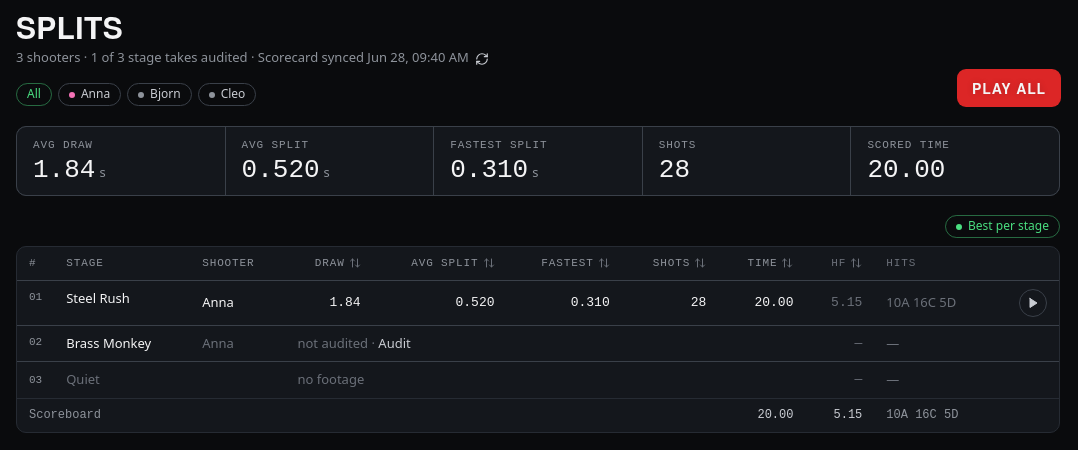
it: Splits - owner surface › multi-shooter: chips filter the table to one shooter
expect the element named "Filter by shooter" is shown: met, box [16,80,256,106]
expect the text "1 of 3 stage takes audited" is shown: met, box [16,48,489,68]
Click the button "Bjorn" at {"x": 159, "y": 93}, box [127,80,192,106]
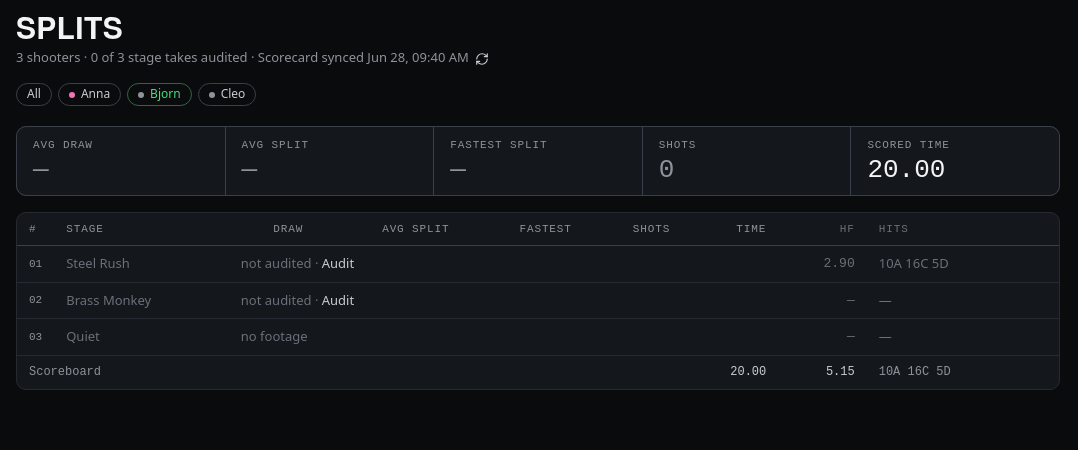
expect the text "not audited · Audit" in the row of "01" is shown: met, box [241,254,312,272]
expect the text "2.90" is shown: met, box [778,246,867,282]
expect the link "Play all" is gone: met
